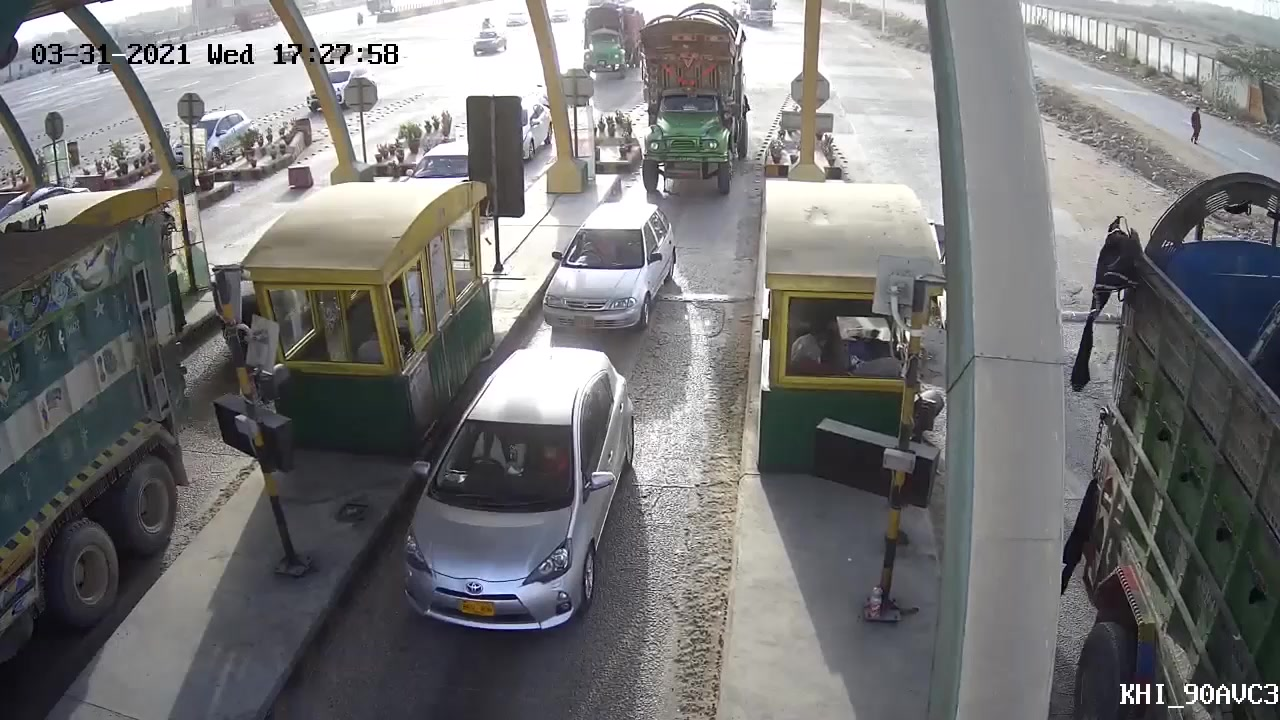F1: (373, 339, 647, 649)
